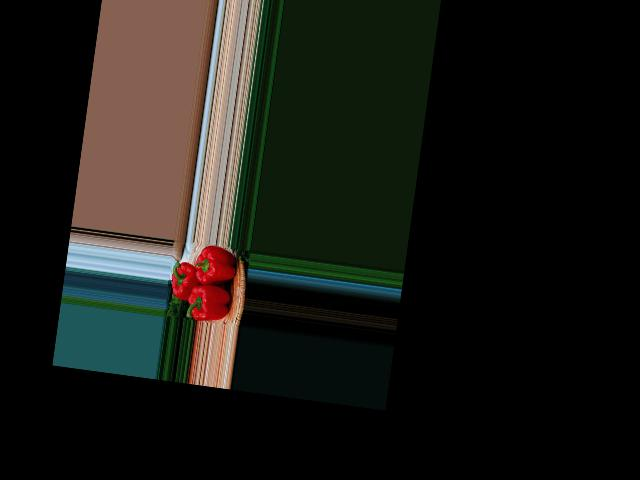bell_pepper: (185, 277, 238, 324)
